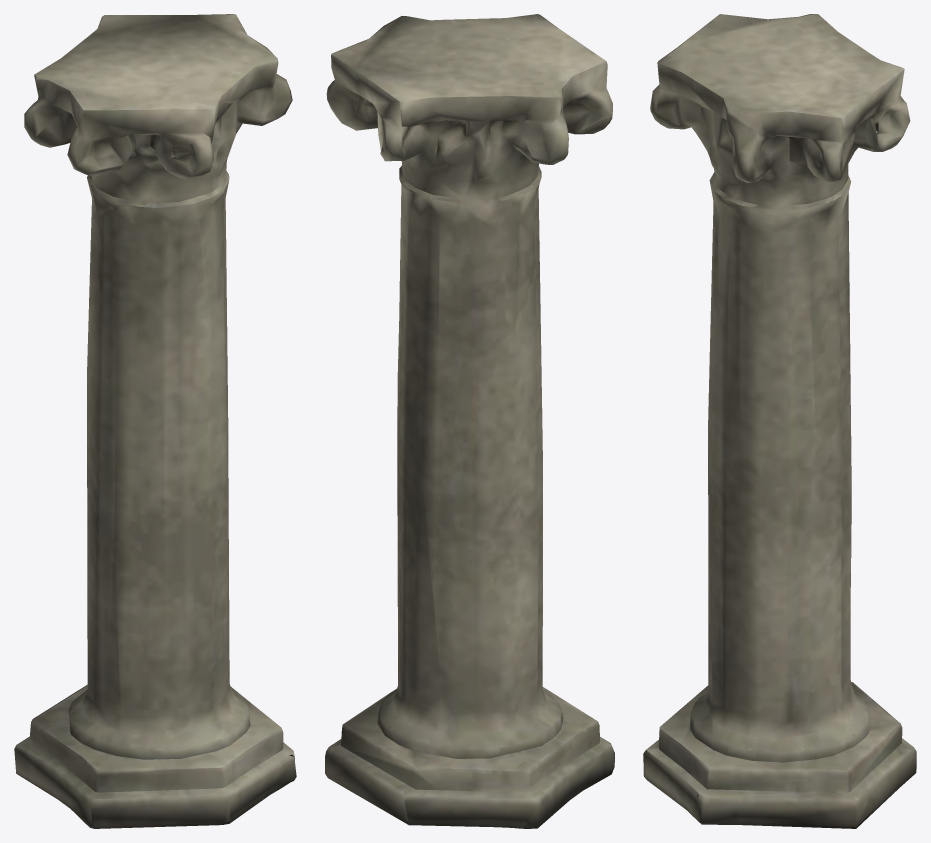
File: sturdy-limestone-column-v001.glb
The picture shows the model from 3 angles, left to right: view 1: azimuth 30°, elevation 25°; view 2: azimuth 150°, elevation 25°; view 3: azimuth 270°, elevation 25°; orthographic projection.
Visible parts, largest first — view 1: sturdy-limestone-column; view 2: sturdy-limestone-column; view 3: sturdy-limestone-column.
Part boxes in pixels (x1=…): sturdy-limestone-column: x1=14, y1=14, x2=296, y2=828; sturdy-limestone-column: x1=325, y1=14, x2=614, y2=828; sturdy-limestone-column: x1=643, y1=14, x2=916, y2=828.
Size of the model in its own units: 0.5143 by 1.52 by 0.5256.
Materials: 1 (1 with a texture image).
